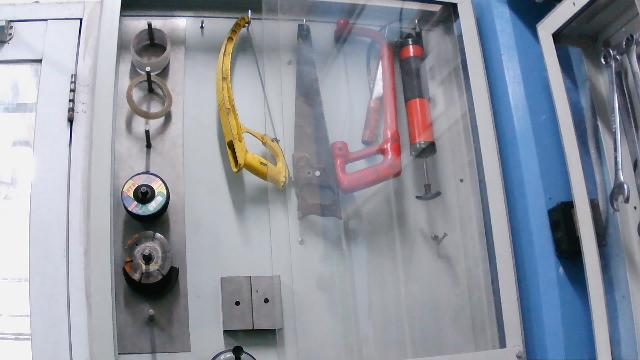gergaji_besi: (331, 17, 403, 199)
